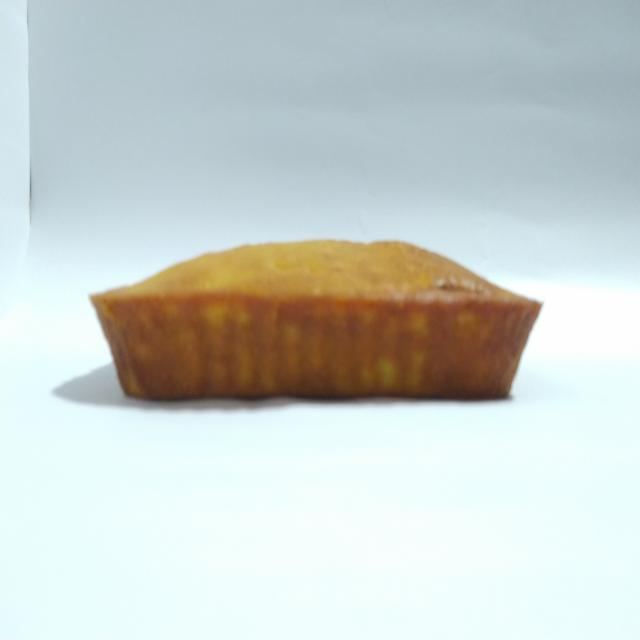Food: (90, 224, 542, 420)
